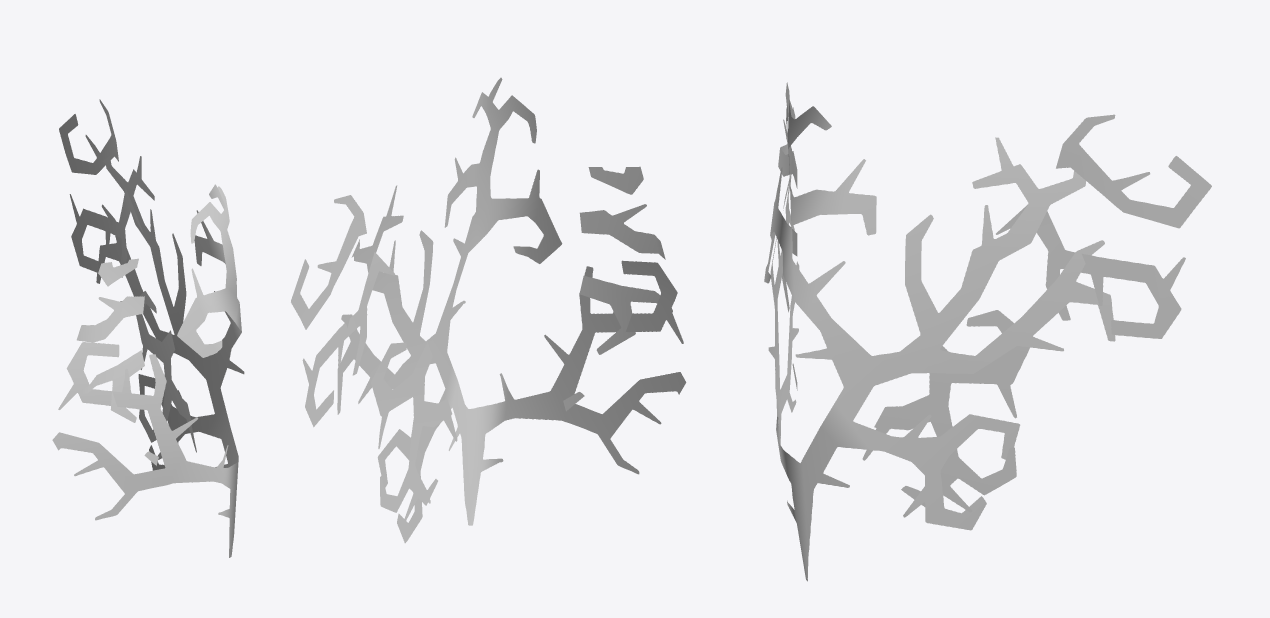
Rendered from dark_SM_Env_Vine_12.gltf.
The picture shows the model from 3 angles, left to right: view 1: azimuth 30°, elevation 25°; view 2: azimuth 150°, elevation 25°; view 3: azimuth 270°, elevation 25°; orthographic projection. The views are drawn at different scales.
Visible parts, largest first — view 1: SM_Env_Vine_12; view 2: SM_Env_Vine_12; view 3: SM_Env_Vine_12.
Boxes of the visible parts, <box> form: SM_Env_Vine_12: <box>52,99,244,557</box>; SM_Env_Vine_12: <box>291,77,686,543</box>; SM_Env_Vine_12: <box>764,82,1211,581</box>.
Size of the model in its own units: 0.911 by 1.76 by 1.37.
1 material, 1 textured.
